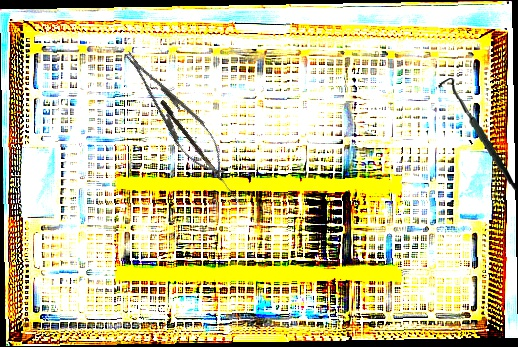Hook Surgical: (437, 73, 518, 196), (158, 99, 244, 204)
Needle Holder: (112, 40, 237, 186)
